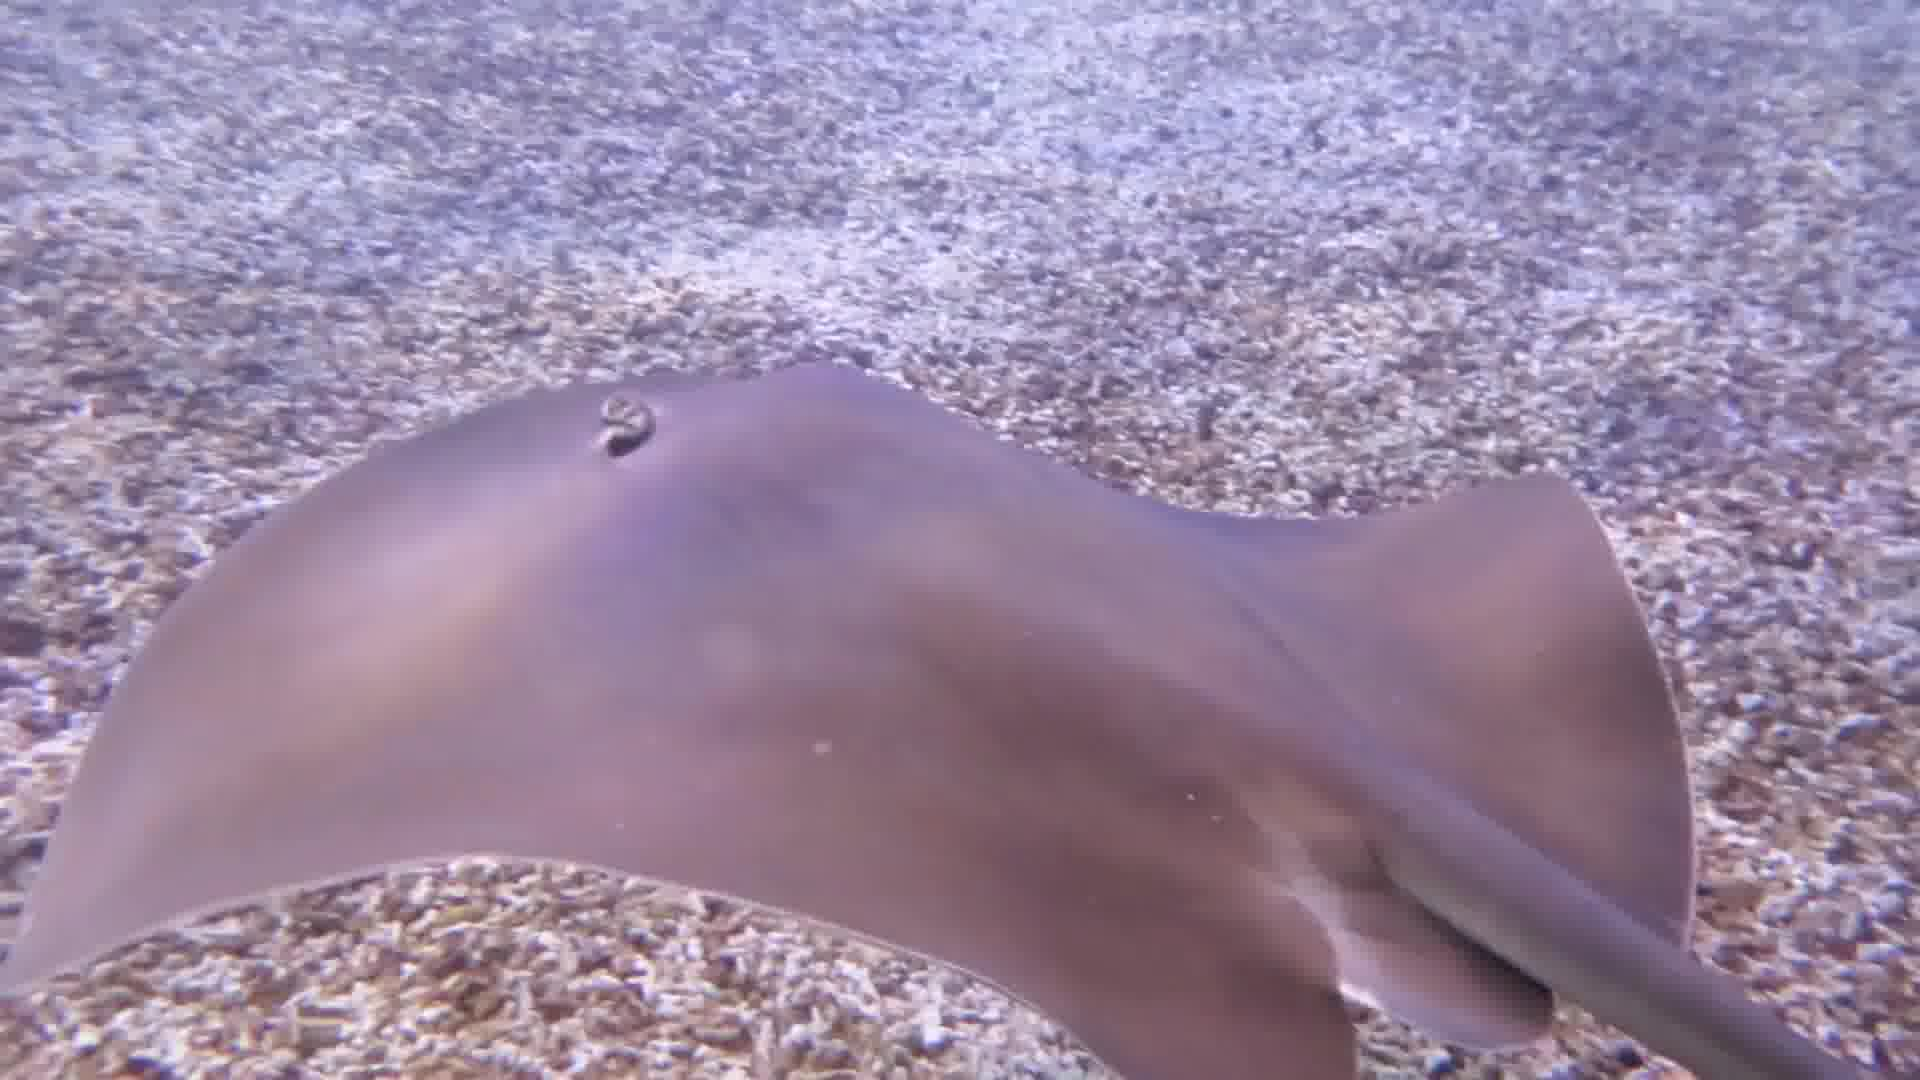Dasyatis akajei: (1, 338, 1920, 1080)
